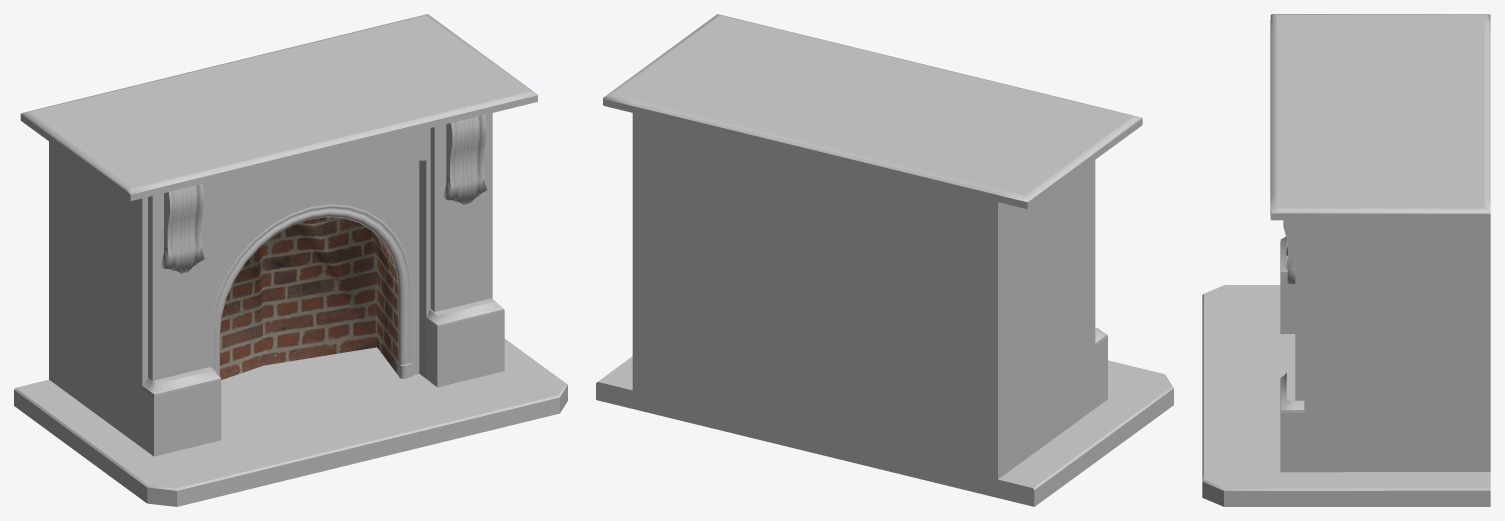
Rendered from fireplace.fbx.
The picture shows the model from 3 angles, left to right: view 1: azimuth 30°, elevation 25°; view 2: azimuth 150°, elevation 25°; view 3: azimuth 270°, elevation 25°; orthographic projection. The views are drawn at different scales.
Visible parts, largest first — view 1: fireplace; view 2: fireplace; view 3: fireplace.
Boxes of the visible parts, x1,y1,x2,y2 form: fireplace: [14, 14, 567, 506]; fireplace: [596, 14, 1173, 506]; fireplace: [1202, 14, 1490, 506].
Bounding box in the file's own units: 248 × 165 × 148.
